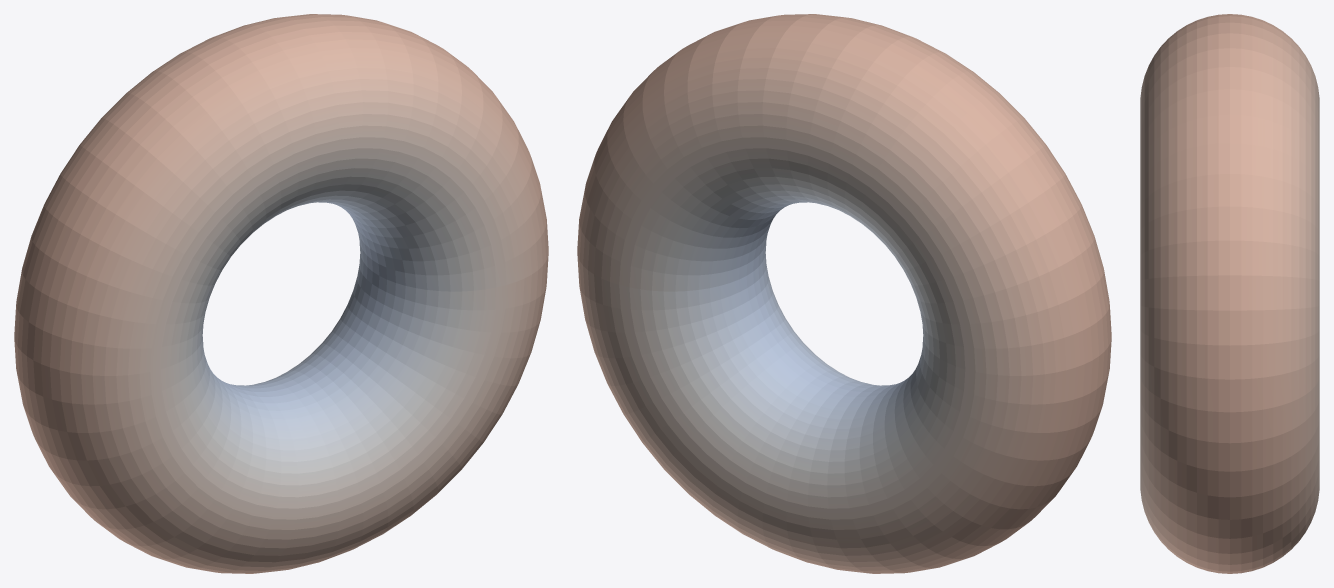
3 renders of one model, left to right at view 1: azimuth 30°, elevation 25°; view 2: azimuth 150°, elevation 25°; view 3: azimuth 270°, elevation 25°, orthographic. The views are drawn at different scales.
Parts seen in each view (by area): view 1: world; view 2: world; view 3: world.
Boxes of the visible parts, x1,y1,x2,y2 form: world: [14, 14, 548, 573]; world: [577, 14, 1111, 573]; world: [1140, 14, 1319, 573].
Size of the model in its own units: 24.53 by 24.48 by 7.85.
